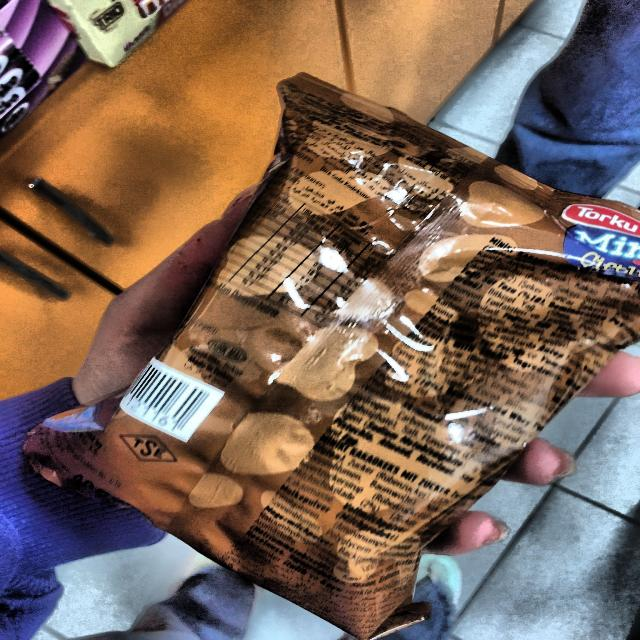Plastic: (23, 53, 638, 639)
